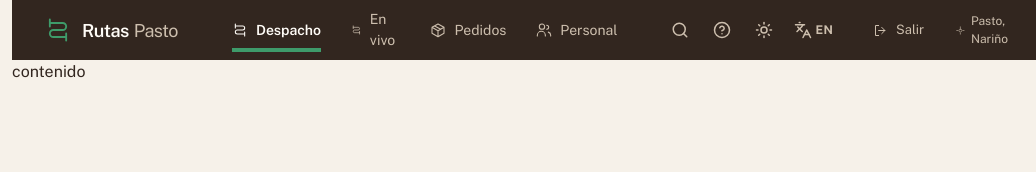
Test: preferencias de la interfaz › cambia a inglés, traduce la navegación y avisa qué no se traduce
The width and height of the screenshot is (1036, 172).
Click the button with aria-label "English": (813, 30) 786,10 -> 841,50
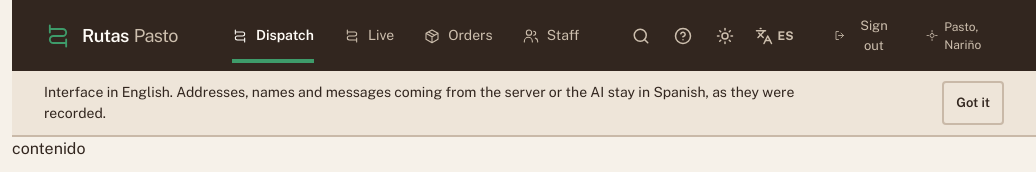
Expected: the link "Dispatch" is shown, 218,8 -> 328,63
Now the message shows "stay in Spanish", box 44,84 -> 794,121
Click the button "Got it": (973, 103) 942,81 -> 1004,125
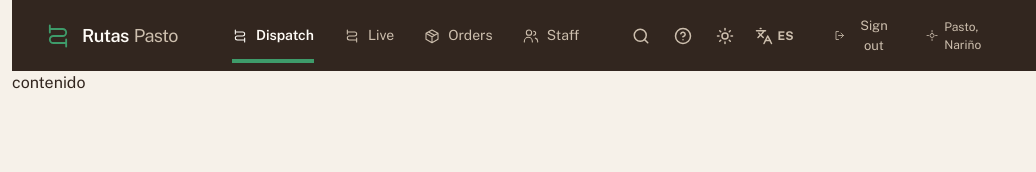
Now the message is gone
